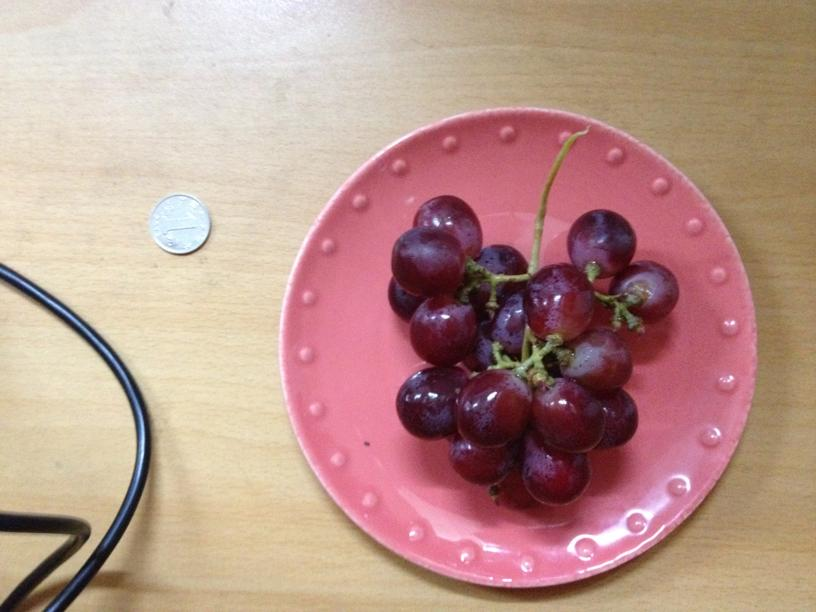coin: (149, 194, 210, 255)
grape: (375, 188, 679, 509)
